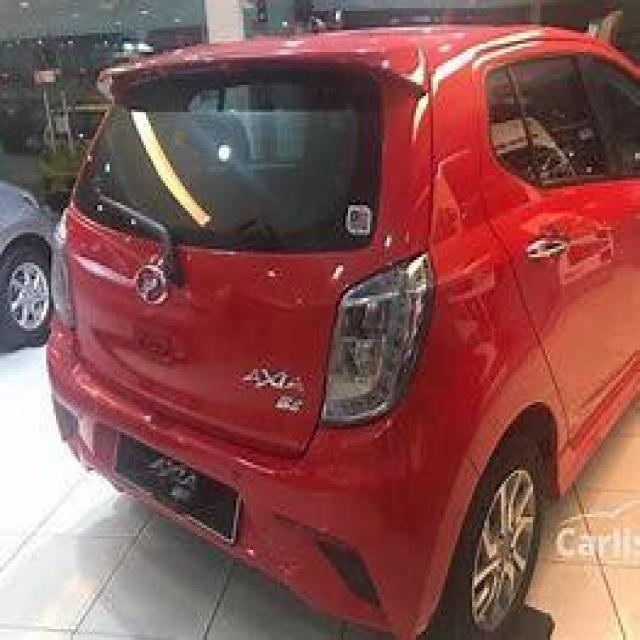PeroduaAxia: (43, 19, 638, 637)
